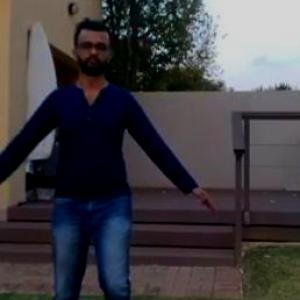land: (1, 38, 206, 299)
